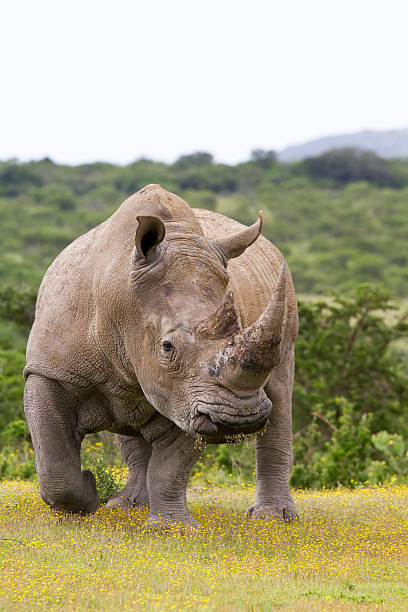rhino: (79, 194, 325, 481)
